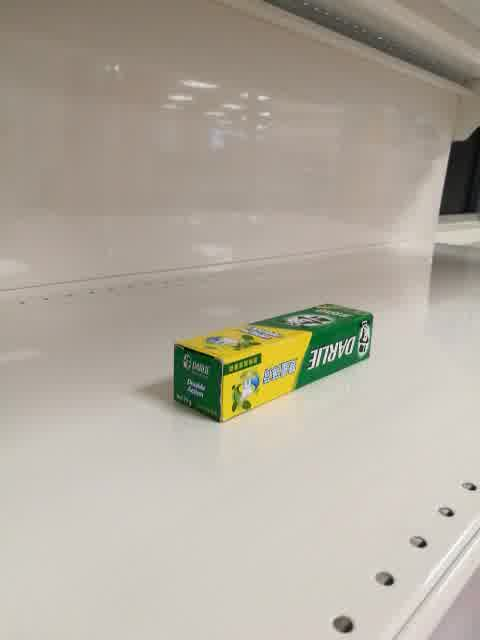toothpaste: (172, 301, 374, 426)
